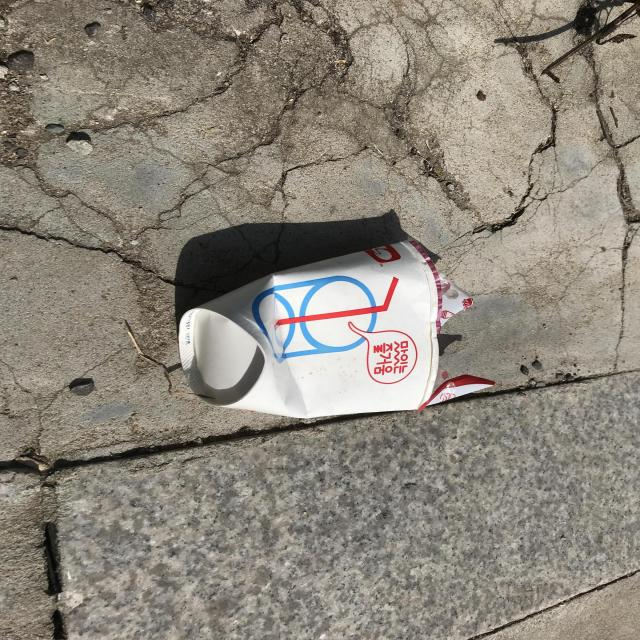paperpack: (178, 240, 494, 419)
